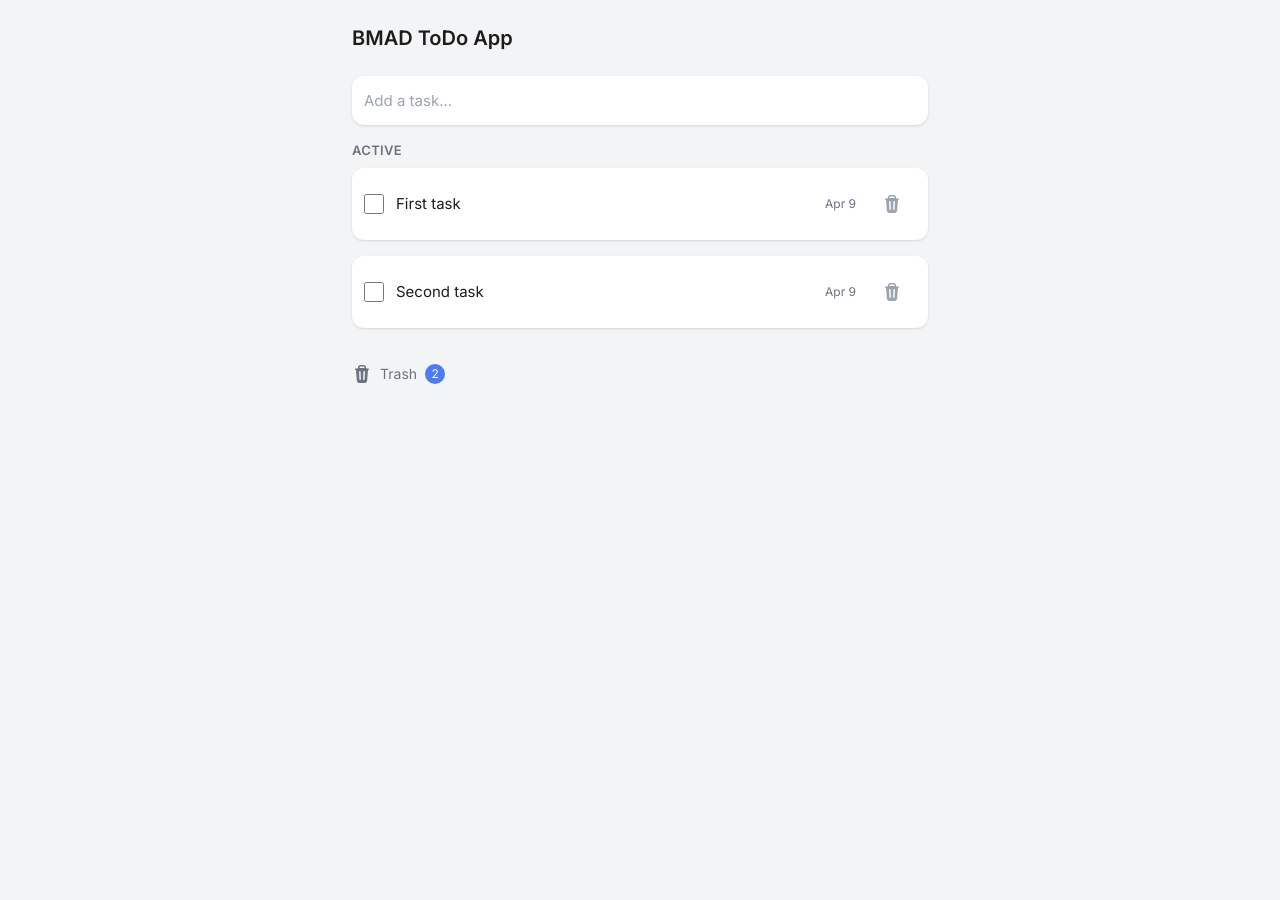
Test: App › removes a task when delete button is clicked
Expected: the text "First task" is shown, [396,194,461,213]
Click the button named "delete \"First task\"" at {"x": 892, "y": 204}, box [868,180,916,228]
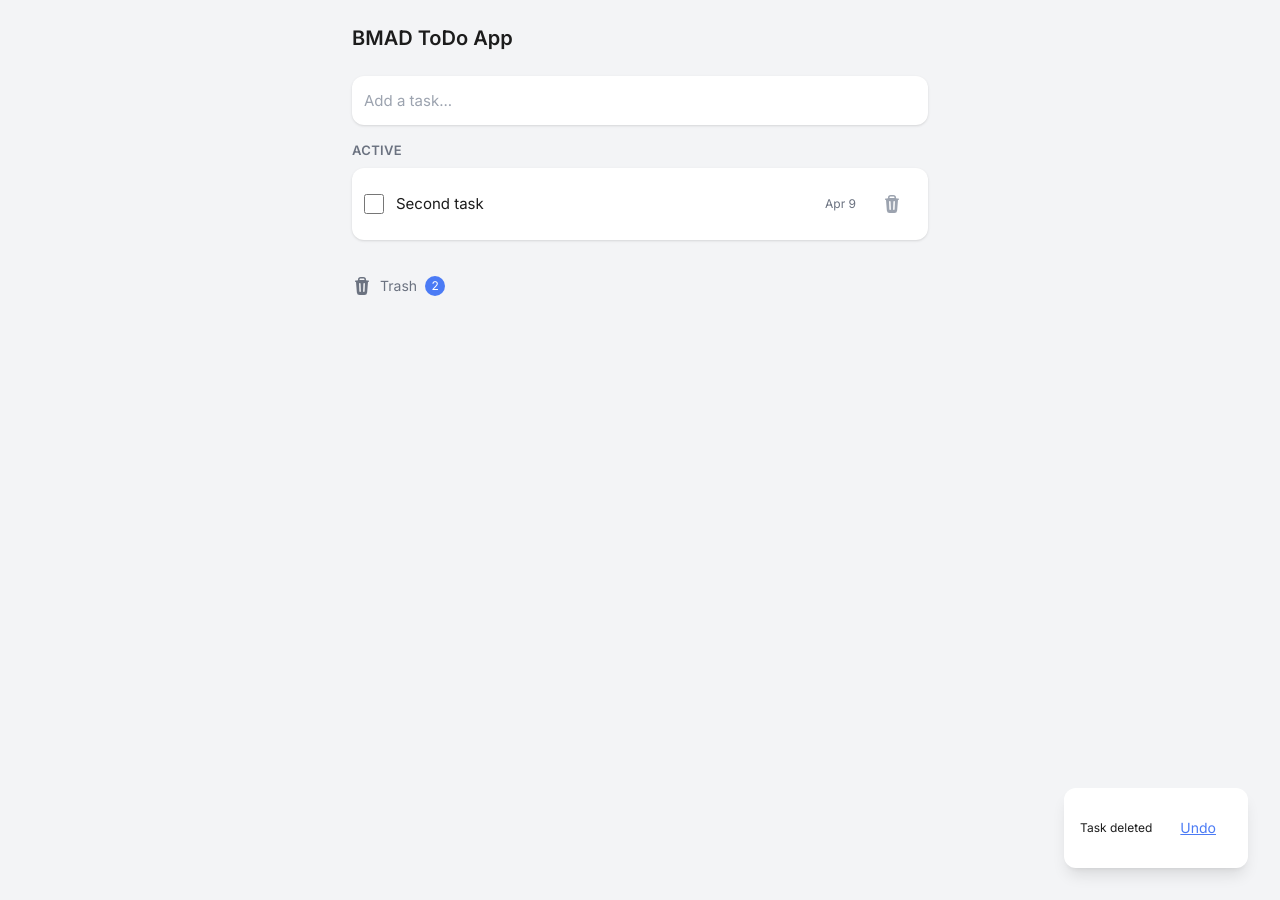
Expected: the text "Second task" is shown, [396,194,484,213]
Result: the text "First task" is gone
